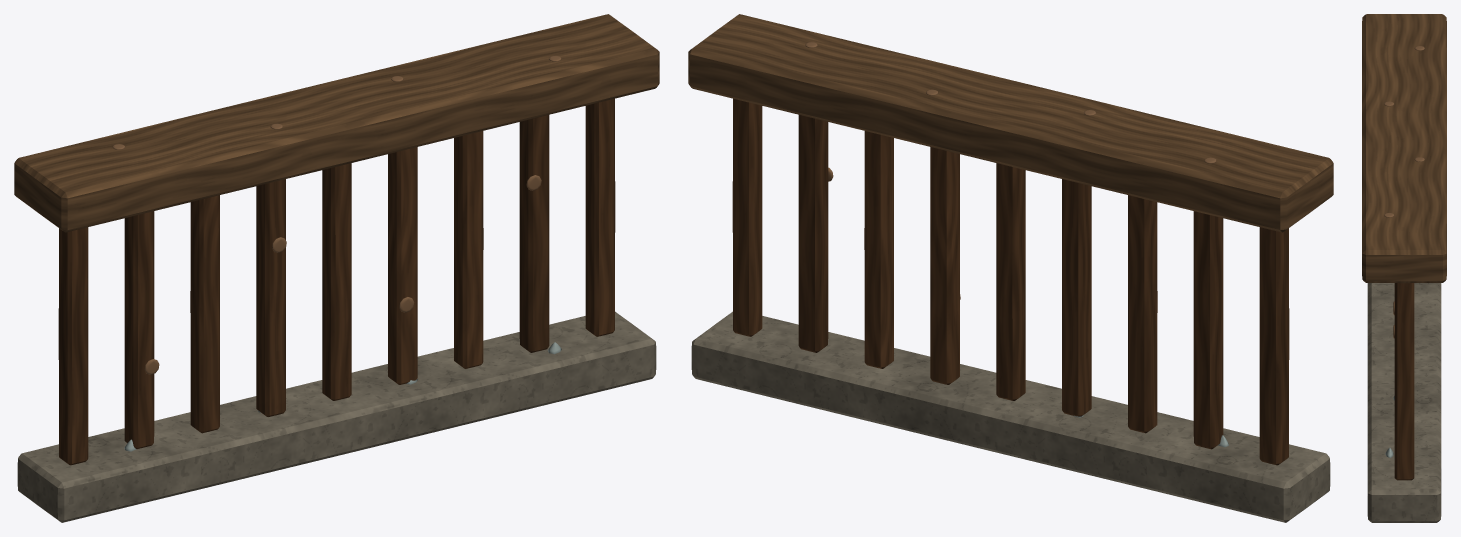
3 renders of one model, left to right at view 1: azimuth 30°, elevation 25°; view 2: azimuth 150°, elevation 25°; view 3: azimuth 270°, elevation 25°, orthographic. The views are drawn at different scales.
Visible parts, largest first — view 1: quarter-sawn-timber, exposed-end-grain, dressed-fieldstone-edges, drawbore peg; view 2: quarter-sawn-timber, exposed-end-grain, dressed-fieldstone-edges; view 3: exposed-end-grain, dressed-fieldstone-edges, quarter-sawn-timber, drawbore peg.
Boxes of the visible parts, x1,y1,x2,y2 form: quarter-sawn-timber: (58, 98, 615, 465); exposed-end-grain: (14, 14, 659, 232); dressed-fieldstone-edges: (17, 311, 656, 522); drawbore peg: (144, 175, 541, 374); quarter-sawn-timber: (732, 98, 1289, 465); exposed-end-grain: (688, 14, 1333, 232); dressed-fieldstone-edges: (691, 311, 1330, 522); exposed-end-grain: (1362, 14, 1446, 283); dressed-fieldstone-edges: (1367, 283, 1441, 522); quarter-sawn-timber: (1394, 283, 1414, 480); drawbore peg: (1384, 46, 1424, 217).
Size of the model in its own units: 2 by 1.07 by 0.3.
Materials: 5 (3 with a texture image).
